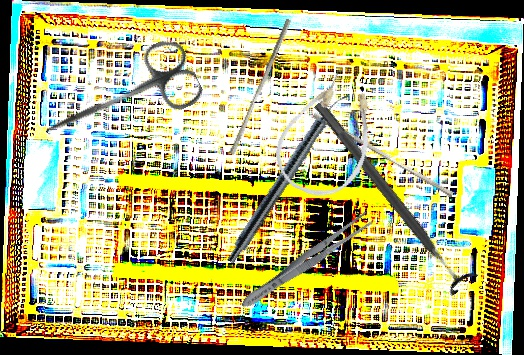Cannula: (263, 62, 395, 210)
Dressing Forceps: (237, 208, 376, 314)
Fixation Ring: (303, 91, 481, 298)
Handpiece: (223, 86, 351, 268)
Iris Scissors: (32, 33, 207, 166)
Pusher: (309, 112, 457, 198), (228, 16, 292, 157)
